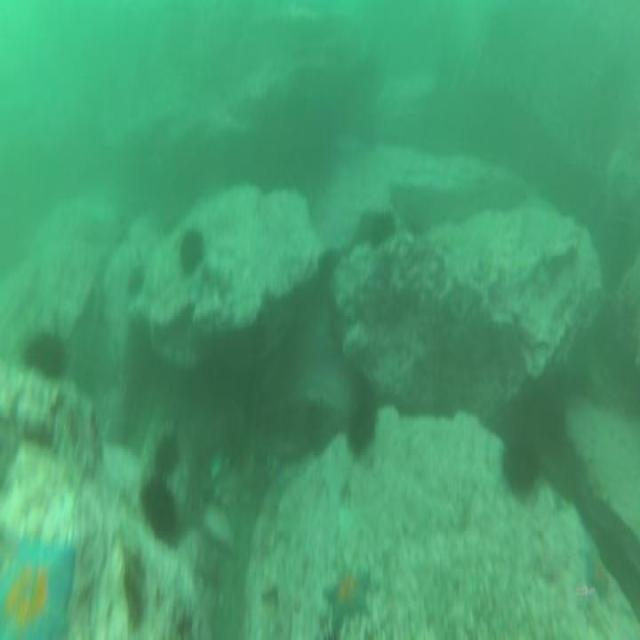echinus: (500, 433, 538, 493), (26, 332, 66, 382), (142, 484, 175, 542), (306, 403, 335, 446), (349, 409, 374, 455), (366, 214, 393, 246), (180, 234, 203, 267), (155, 444, 176, 471), (125, 267, 144, 289)
starfish: (3, 532, 72, 640), (324, 561, 368, 623), (581, 540, 610, 596)
